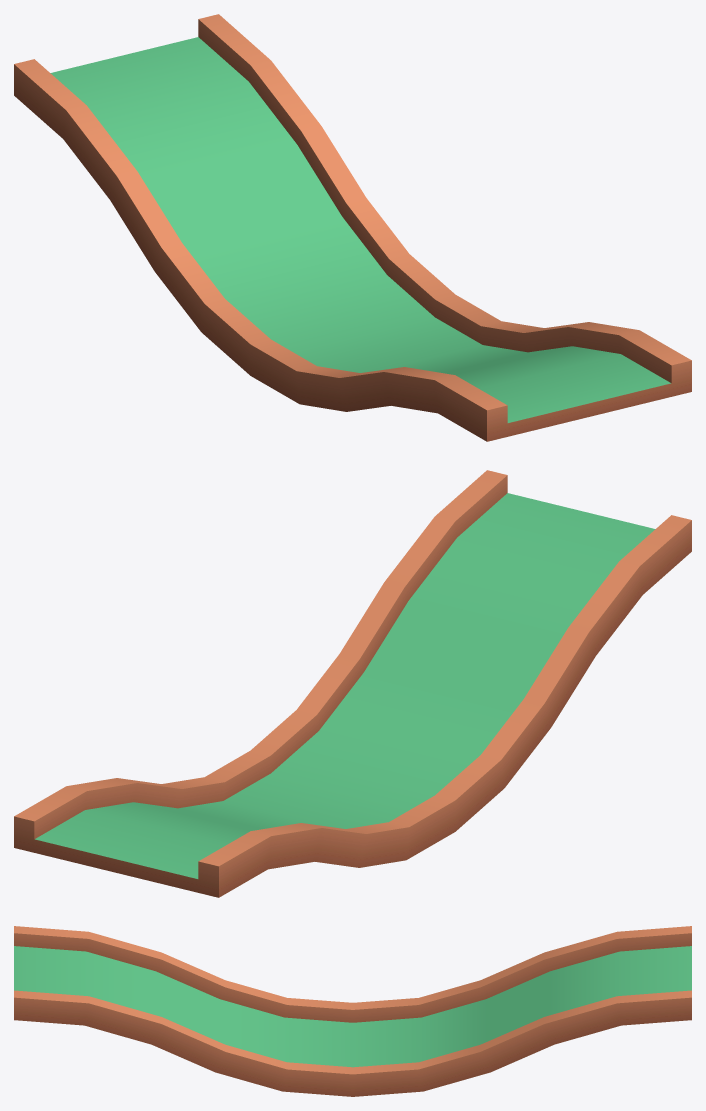
The model's file is spline-default-straight-bump-down.glb.
The picture shows the model from 3 angles, top to bottom: view 1: azimuth 30°, elevation 25°; view 2: azimuth 150°, elevation 25°; view 3: azimuth 270°, elevation 25°; orthographic projection. The views are drawn at different scales.
Visible parts, largest first — view 1: spline-default-straight-bump-down; view 2: spline-default-straight-bump-down; view 3: spline-default-straight-bump-down.
Part boxes in pixels (x1,y1,x2,y2): spline-default-straight-bump-down: [14, 14, 691, 441]; spline-default-straight-bump-down: [14, 470, 691, 897]; spline-default-straight-bump-down: [14, 926, 691, 1096].
Size of the model in its own units: 0.9998 by 0.6468 by 4.
1 material, 1 textured.
